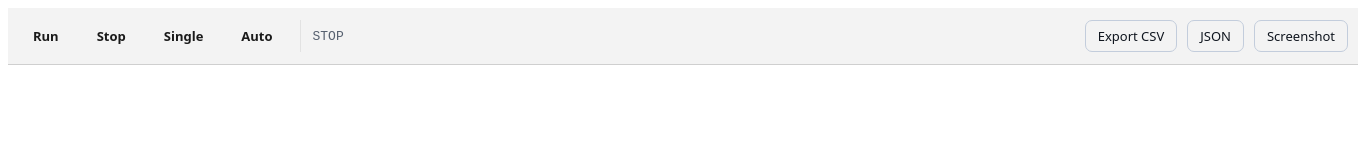
Test: ScopeToolbar › surfaces an ApiError detail
What coordinates should you click on to do the following:
click the button "Run"
I would click on:
 (46, 36)
Its box is [18, 20, 74, 52].
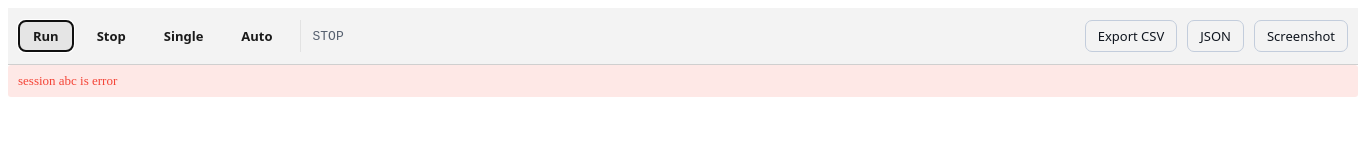
Check: the message reads "session abc is error", box [18, 73, 117, 88]
